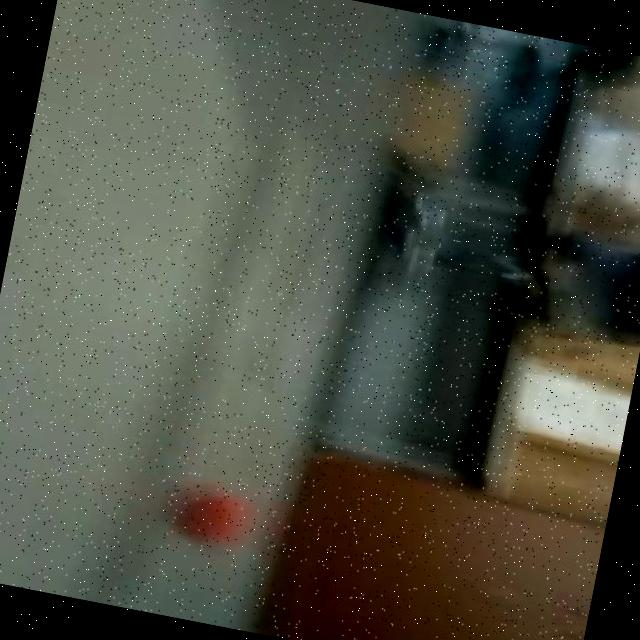ping-pong-ball: (159, 472, 254, 555)
